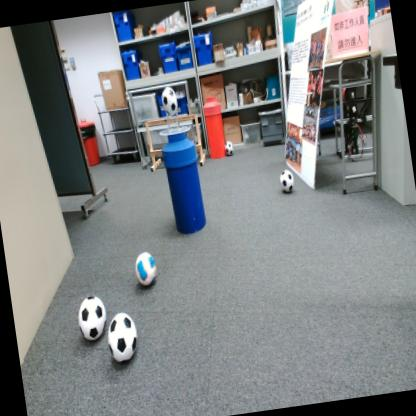ball: (104, 310, 140, 363), (76, 294, 109, 342), (134, 250, 158, 288), (159, 84, 179, 116), (278, 169, 295, 193), (224, 140, 234, 155)
